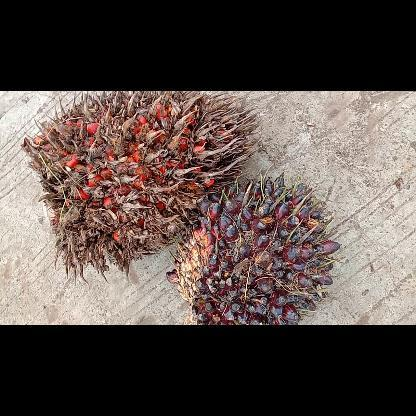TBS mentah: (166, 166, 340, 324)
Terlalu masak: (20, 90, 262, 286)
